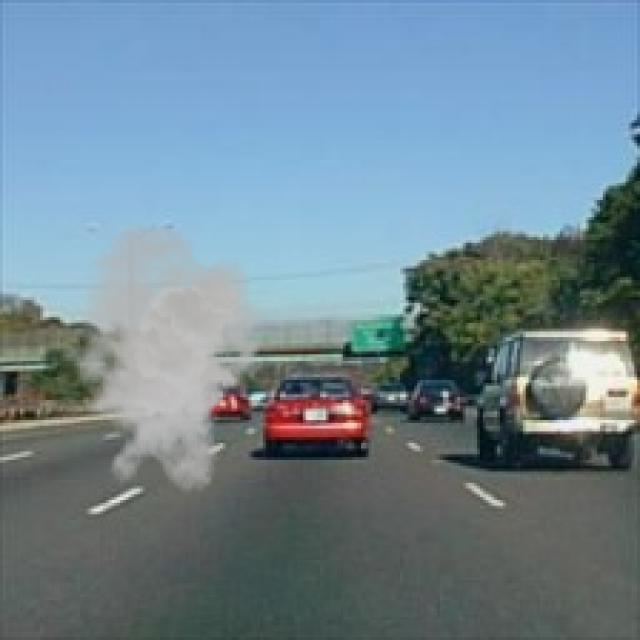Smoke: (52, 222, 268, 494)
